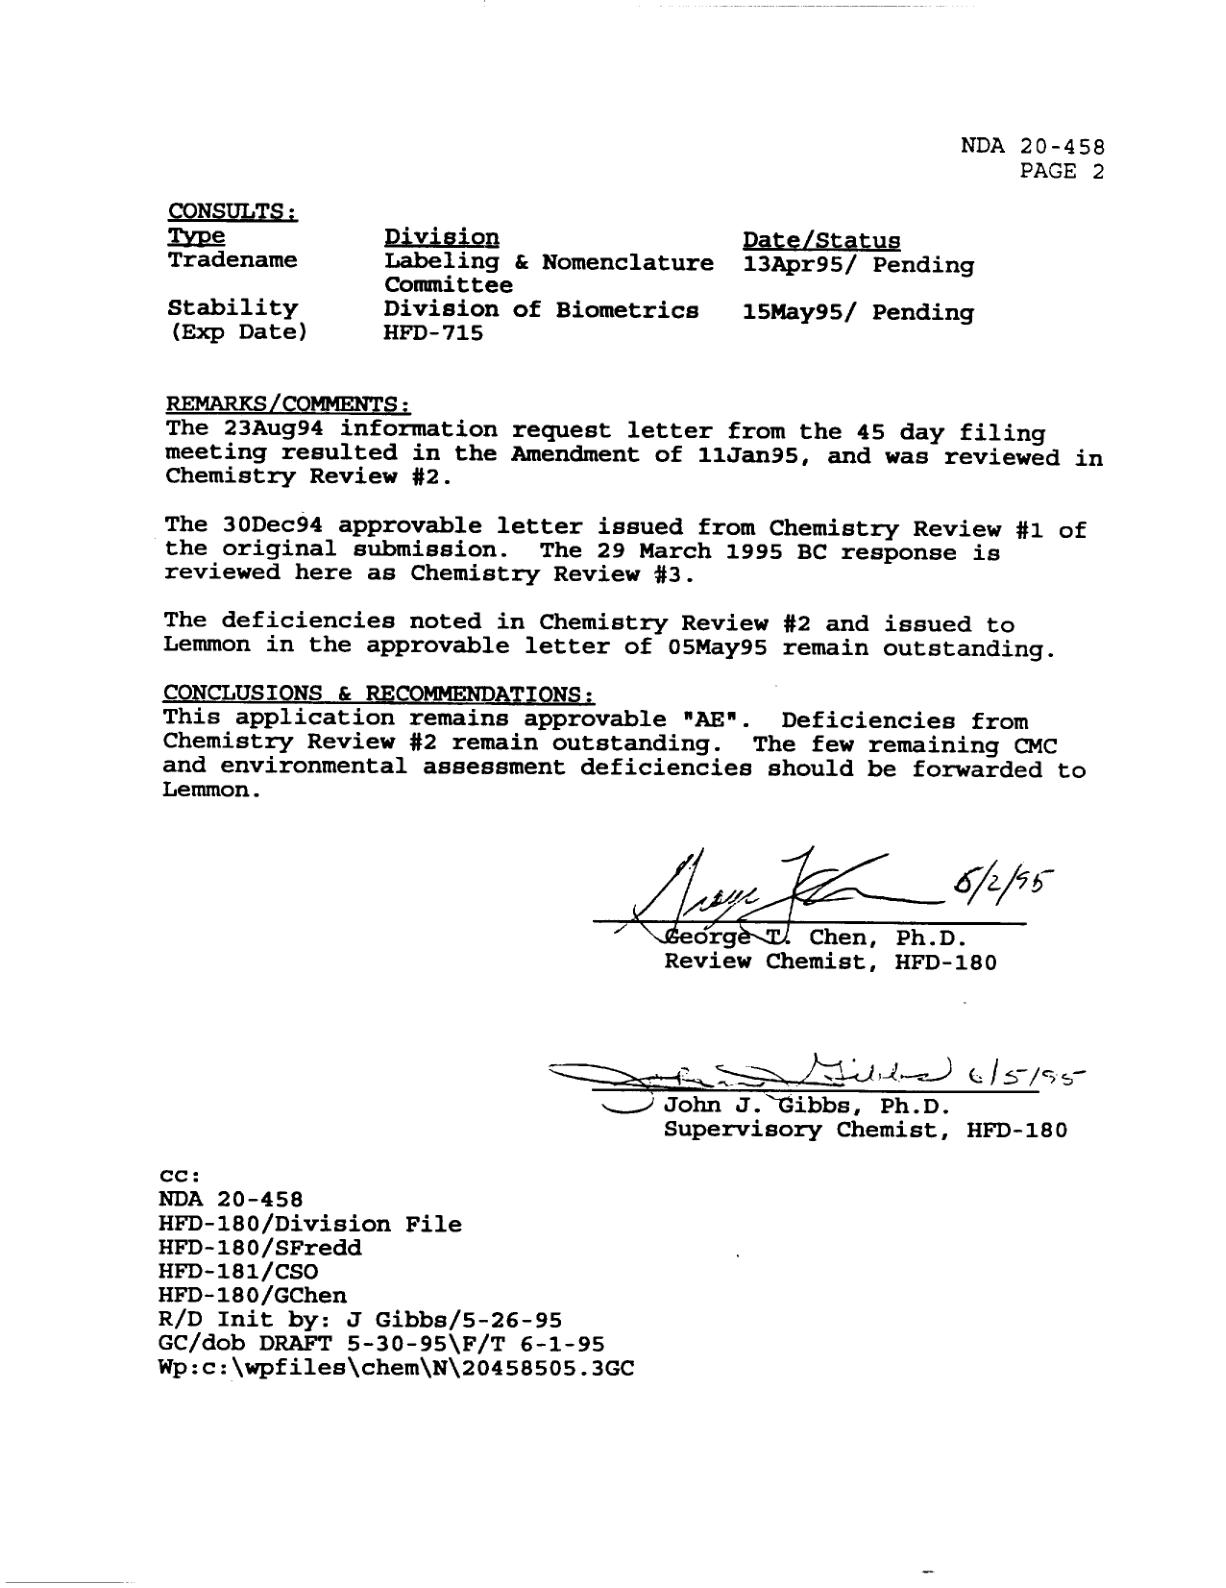nolines: (166, 197, 981, 346)
